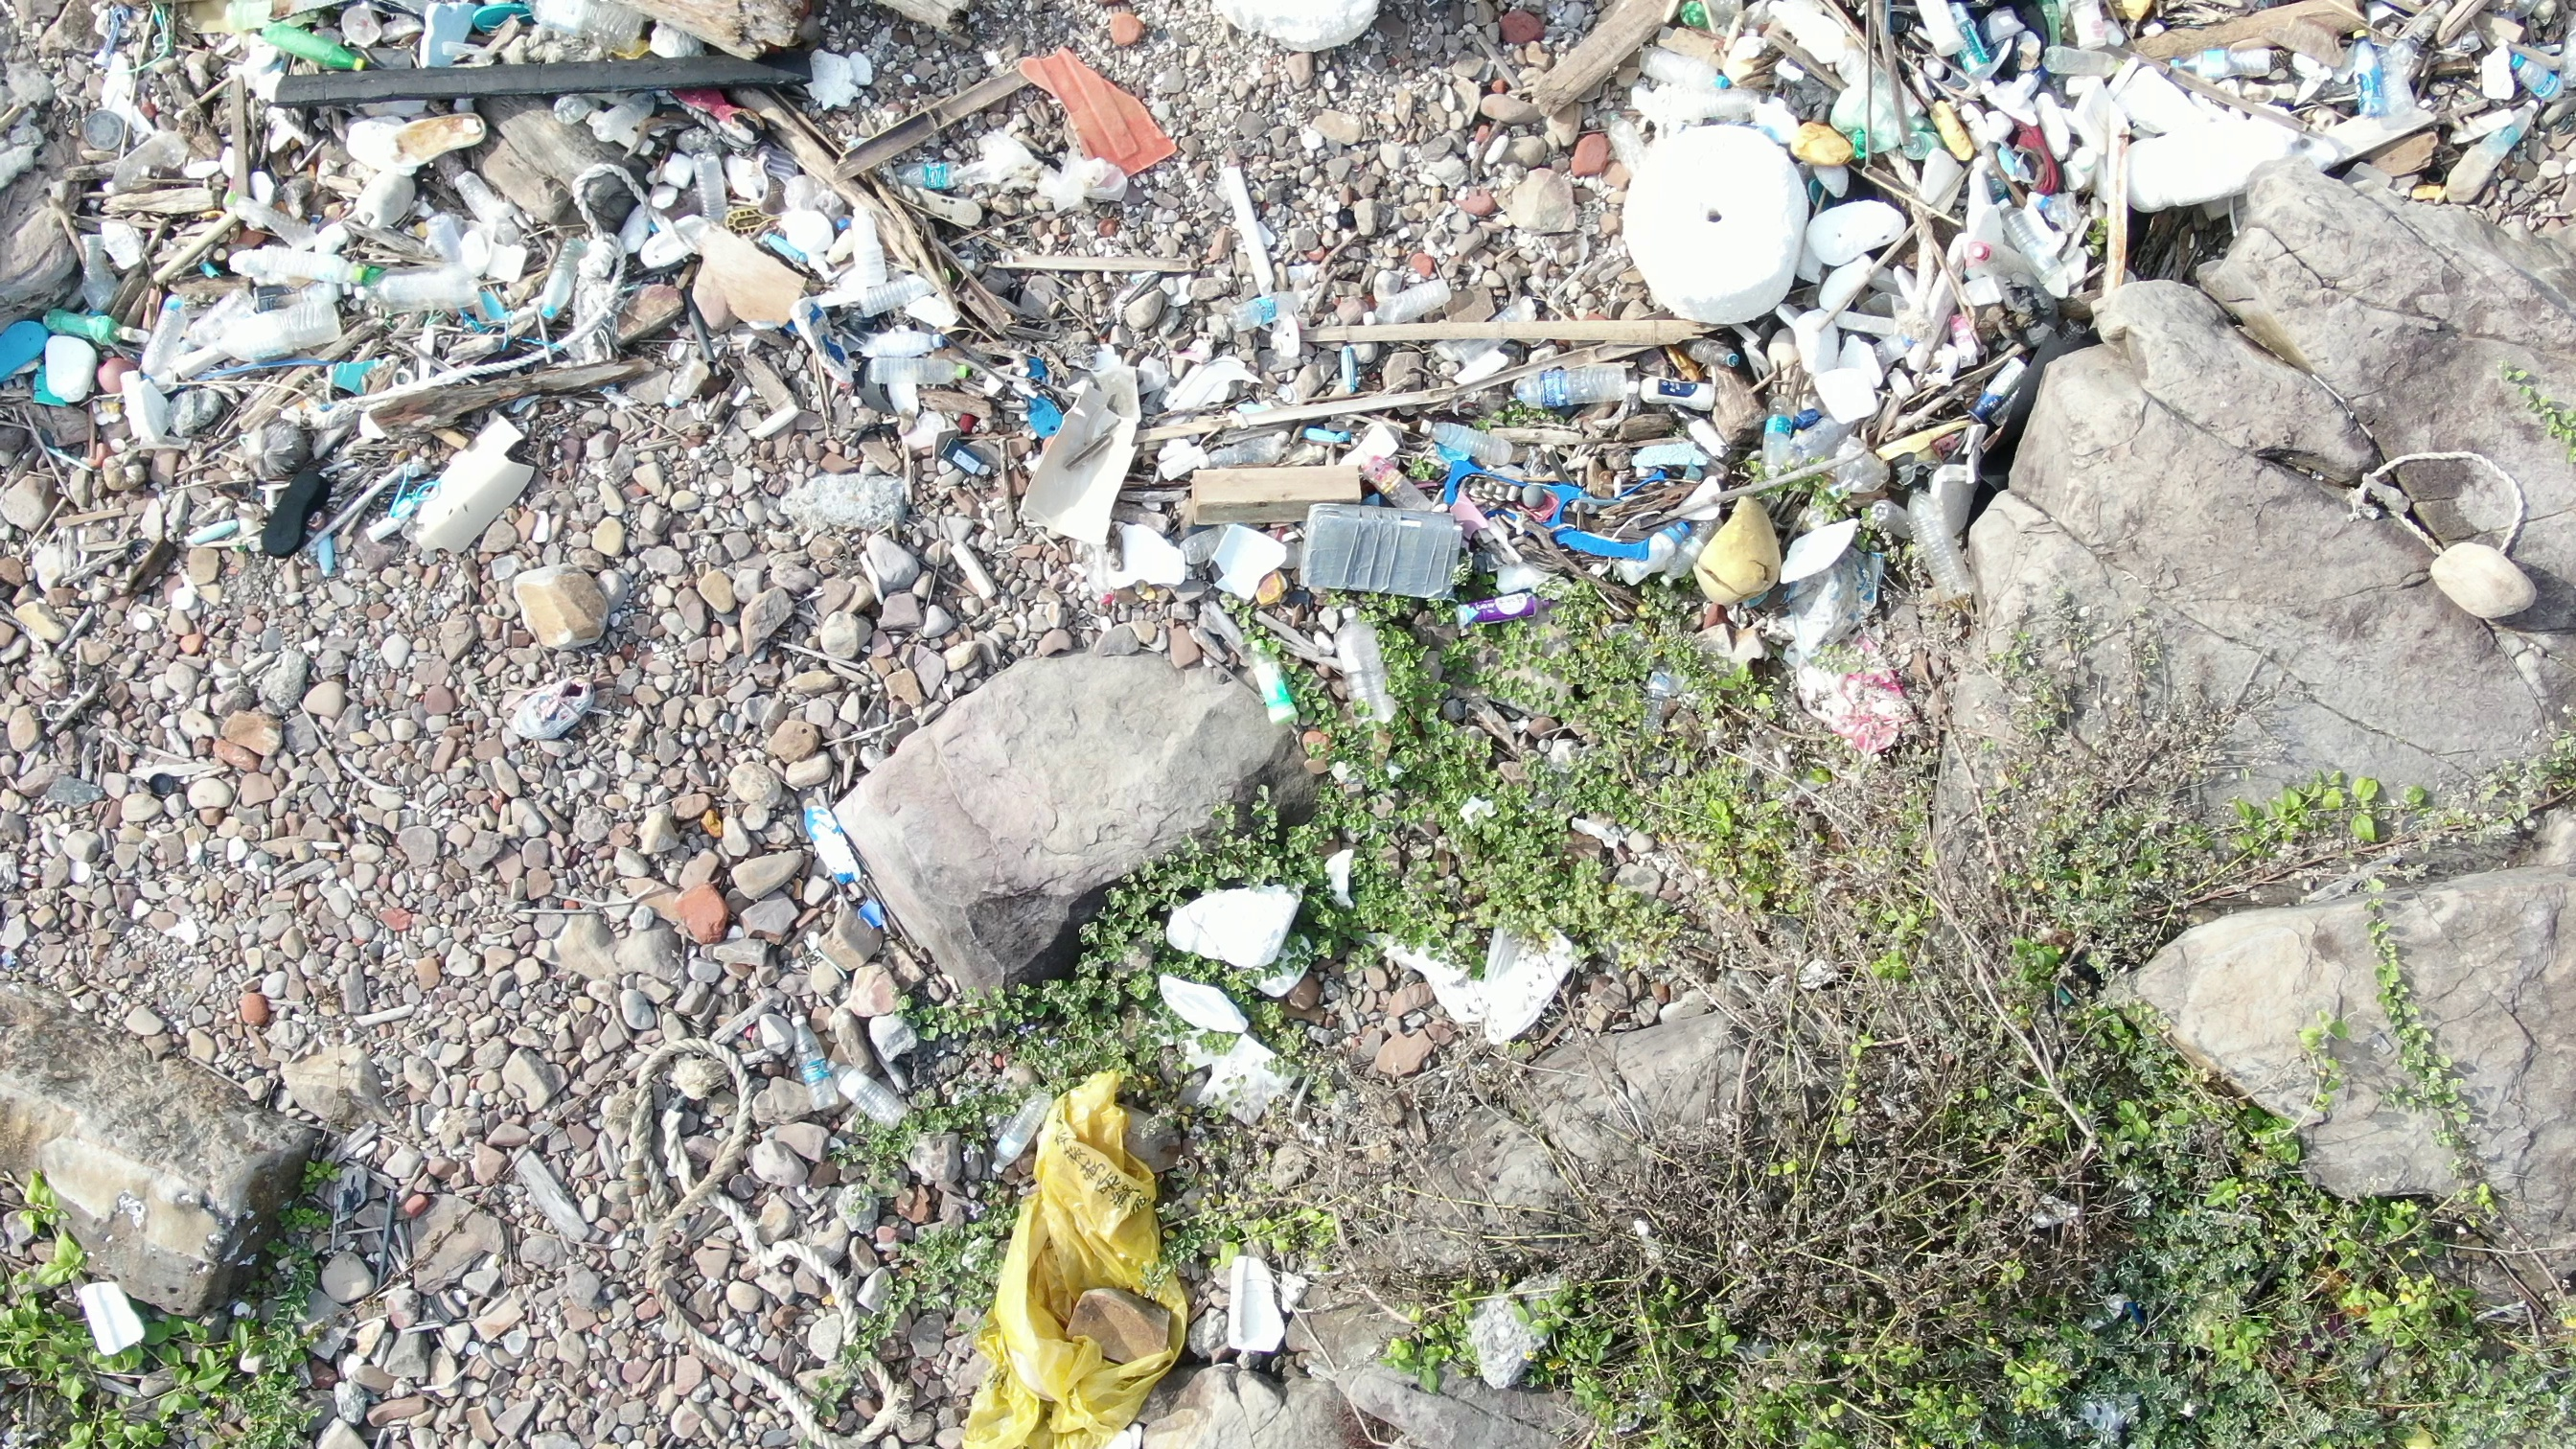bottle: (1327, 609, 1417, 734), (1497, 343, 1635, 416), (770, 987, 844, 1116), (1244, 628, 1313, 738), (140, 287, 202, 375), (2350, 18, 2399, 126)
garbage: (1177, 7, 2576, 621), (2, 251, 1155, 584), (2, 4, 1171, 228), (964, 1051, 1194, 1449), (1143, 840, 1350, 1123), (1332, 897, 1605, 1062), (780, 780, 909, 1125), (1776, 626, 1960, 787)
